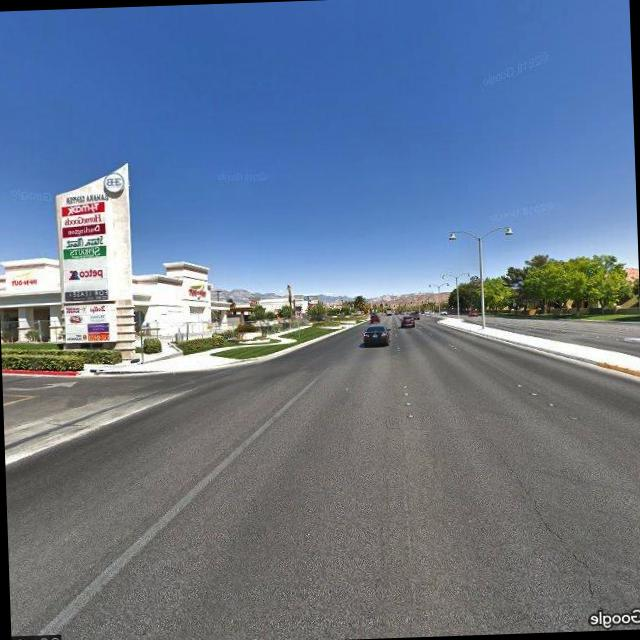crack: (462, 374, 586, 594)
